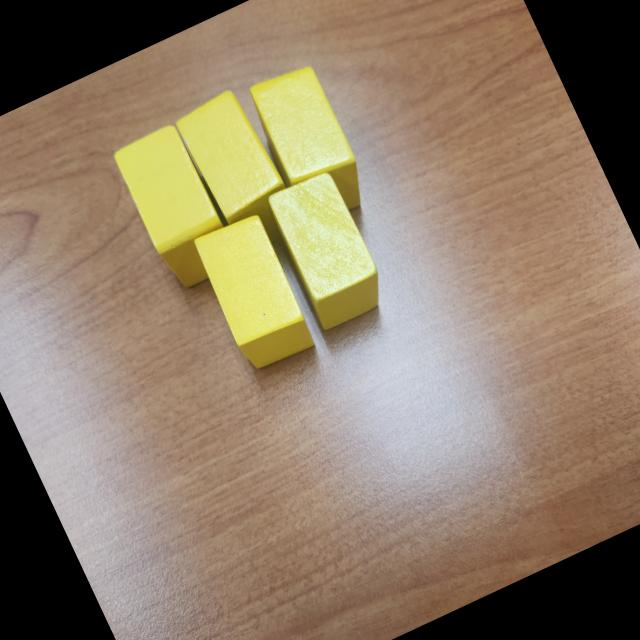yellow: (170, 83, 307, 261), (242, 59, 376, 232), (110, 122, 242, 296), (261, 165, 393, 334), (190, 210, 320, 376)
